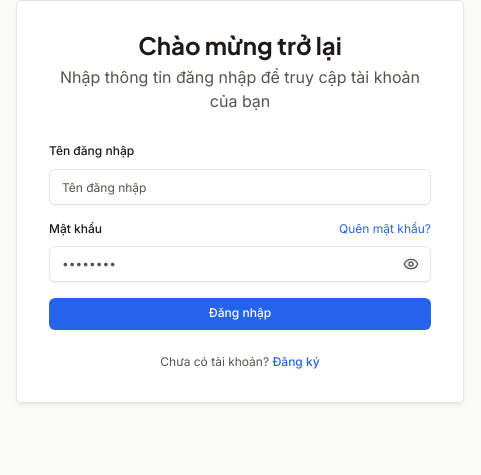
Scenario: LoginForm — backend 503 AUTH_STATE_UNAVAILABLE › shows the backend's detail, whatever its wording
This screenshot has width=481, height=475.
Type "officer1" into the field labelled "Tên đăng nhập".
click(240, 187); type("officer1")  # box [49,169,431,205]
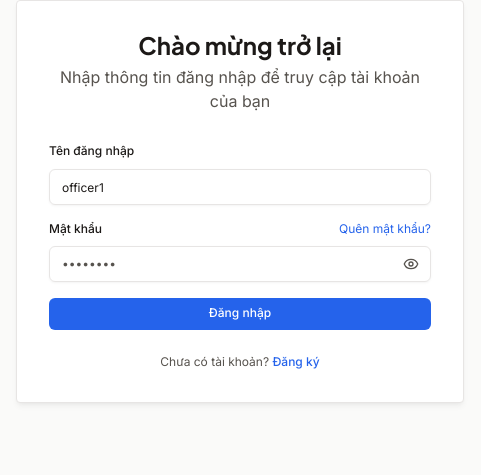
Type "not-the-password" into the password field with placeholder "••••••••".
click(240, 264); type("not-the-password")  # box [49,246,431,282]
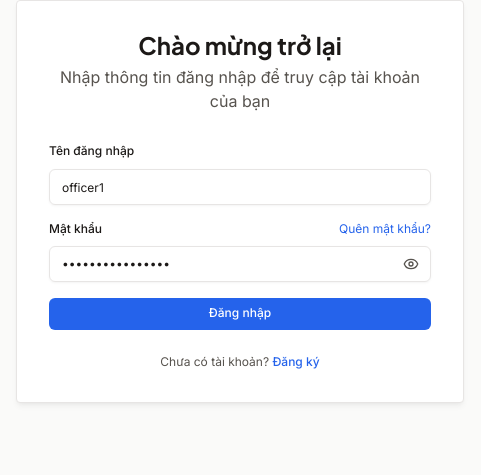
Click the button "Đăng nhập".
click(240, 314)  # box [49,298,431,330]
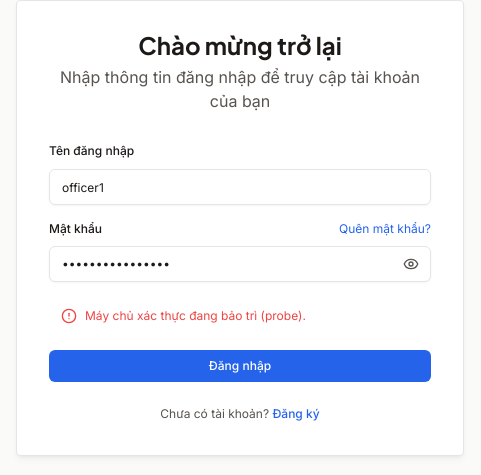
Check: the message reads "Máy chủ xác thực đang bảo trì (probe).", box [85,308,306,322]
